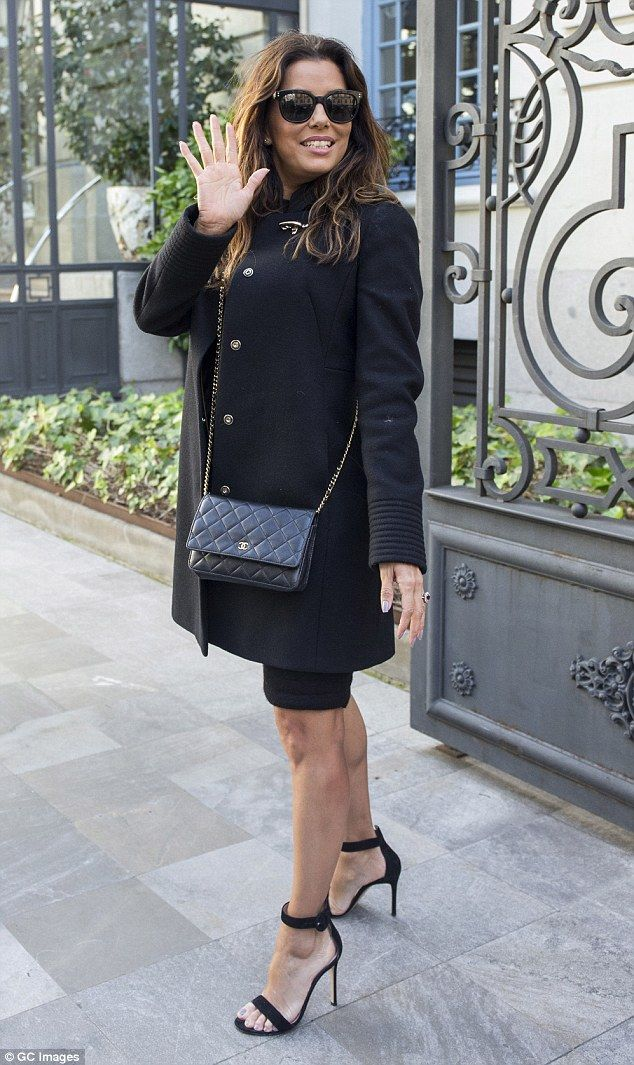channel: (193, 486, 325, 589), (232, 537, 255, 556)
